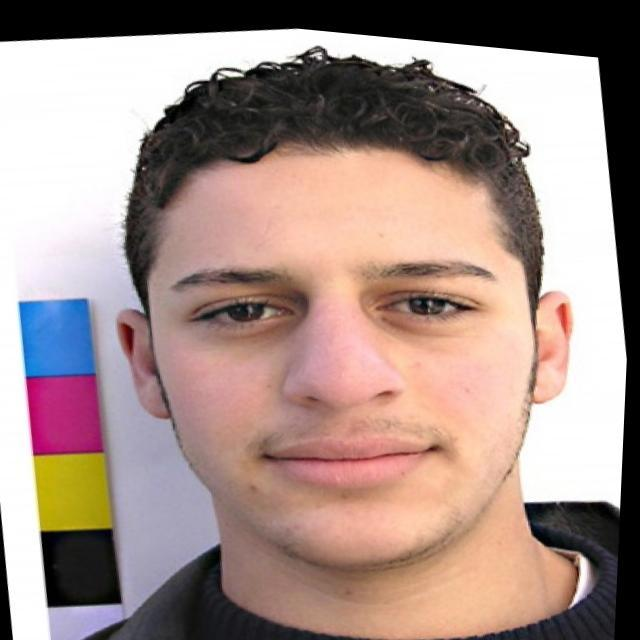Nonhelmet: (123, 41, 570, 588)
